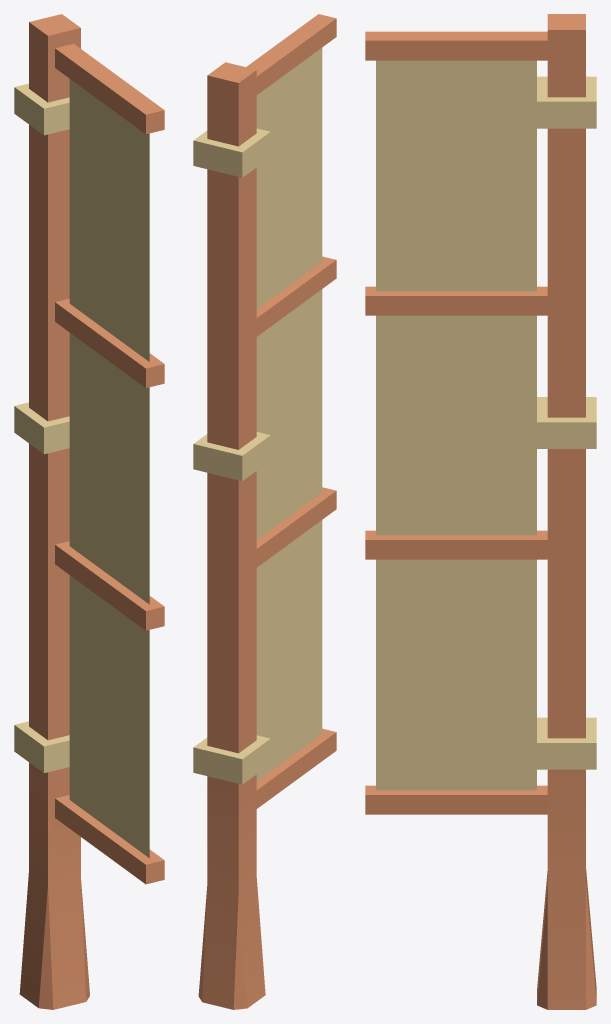
The model's file is blade.fbx.
The picture shows the model from 3 angles, left to right: view 1: azimuth 30°, elevation 25°; view 2: azimuth 150°, elevation 25°; view 3: azimuth 270°, elevation 25°; orthographic projection. The views are drawn at different scales.
Visible parts, largest first — view 1: blade; view 2: blade; view 3: blade.
Boxes of the visible parts, x1,y1,x2,y2 form: blade: [14, 14, 164, 1009]; blade: [193, 14, 336, 1009]; blade: [365, 14, 596, 1009].
Bounding box in the file's own units: 1.11 × 20 × 4.3.
